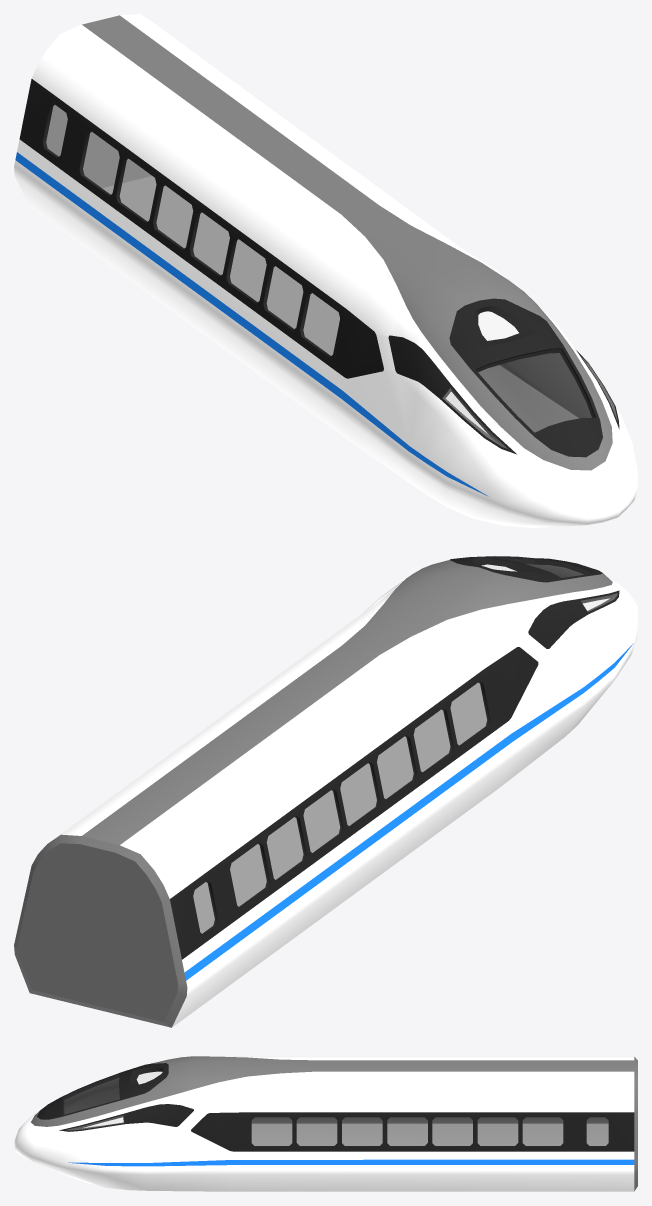
File: train_head_001.glb
The picture shows the model from 3 angles, top to bottom: view 1: azimuth 30°, elevation 25°; view 2: azimuth 150°, elevation 25°; view 3: azimuth 270°, elevation 25°; orthographic projection. The views are drawn at different scales.
Parts seen in each view (by area): view 1: train_head_001; view 2: train_head_001; view 3: train_head_001.
Part boxes in pixels (<box>): train_head_001: <box>14,14,637,527</box>; train_head_001: <box>14,556,637,1027</box>; train_head_001: <box>14,1056,637,1191</box>.
Bounding box in the file's own units: 3.81 × 3.49 × 18.91.
3 materials, 3 textured.
